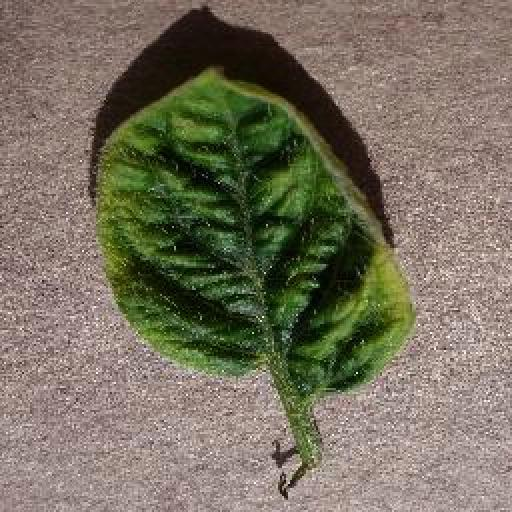disease_tomato: (96, 68, 418, 402)
